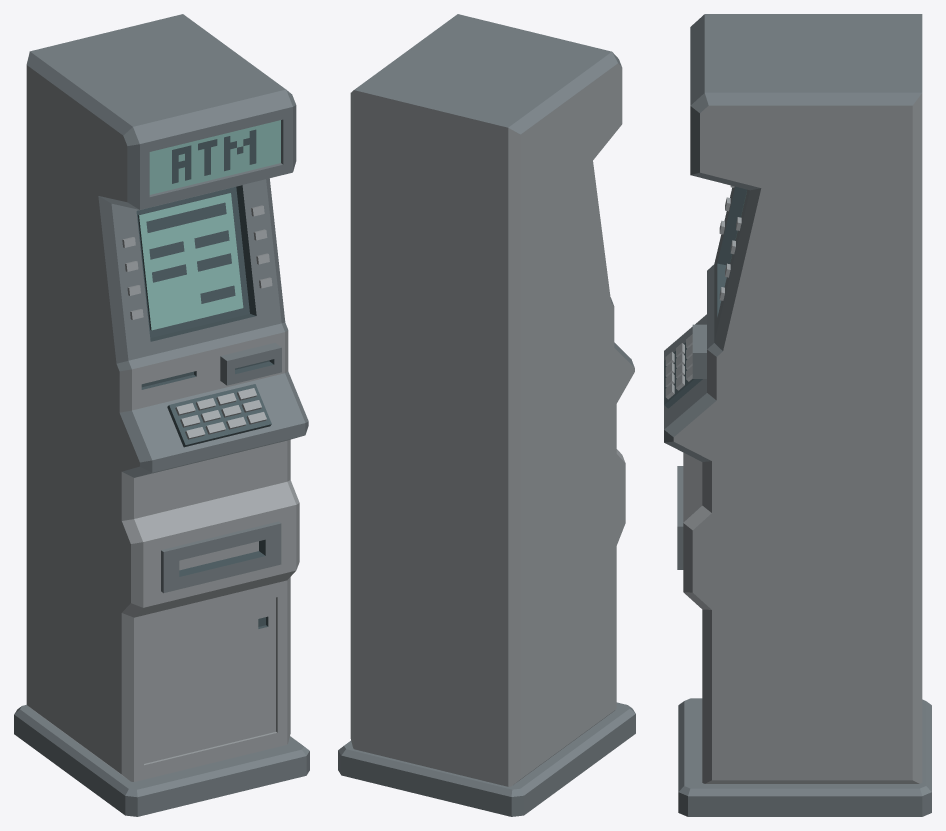
The model's file is atm-terminal-3b84f5.glb.
3 renders of one model, left to right at view 1: azimuth 30°, elevation 25°; view 2: azimuth 150°, elevation 25°; view 3: azimuth 270°, elevation 25°, orthographic. The views are drawn at different scales.
Parts seen in each view (by area): view 1: object 1, shutter; view 2: object 1; view 3: object 1.
Boxes of the visible parts, x1=… form: object 1: x1=14, y1=14, x2=309, y2=816; shutter: x1=179, y1=541, x2=258, y2=570; object 1: x1=338, y1=14, x2=635, y2=816; object 1: x1=664, y1=14, x2=931, y2=816.
Bounding box in the file's own units: 0.47 × 1.65 × 0.56.
